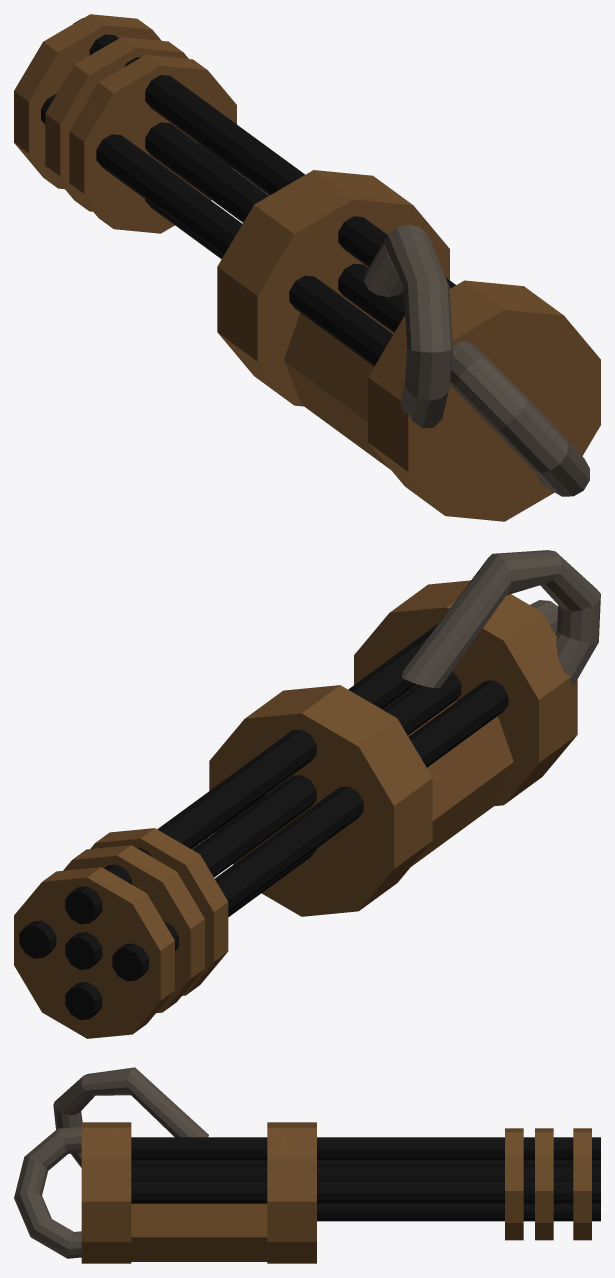
File: gun_turret.fbx
The picture shows the model from 3 angles, top to bottom: view 1: azimuth 30°, elevation 25°; view 2: azimuth 150°, elevation 25°; view 3: azimuth 270°, elevation 25°; orthographic projection. The views are drawn at different scales.
Parts seen in each view (by area): view 1: gun back, gun middle, gun ring 1, pipe.004, Torus.001, pipe, Torus, Cube, pipe.001, gun ring last 3e, gun ring 2e; view 2: gun middle, gun back, gun ring last 3e, Torus.001, pipe.004, pipe, pipe.001, Cube, gun ring 2e, gun ring 1, pipe.002, pipe.003; view 3: pipe.003, pipe, Cube, gun back, gun middle, pipe.001, Torus.001, Torus, pipe.002, pipe.004, gun ring 1, gun ring 2e (+1 smaller).
Part boxes in pixels (x1,y1,x2,y2): gun back: (368,280,600,521); gun middle: (217,170,449,406); gun ring 1: (69,55,236,233); pipe.004: (41,93,393,366); Torus.001: (363,224,452,428); pipe: (73,18,455,292); Torus: (450,341,589,496); Cube: (284,293,403,469); pipe.001: (145,122,405,332); gun ring last 3e: (14,14,161,189); gun ring 2e: (45,37,188,211); gun middle: (209,685,432,916); gun back: (354,580,577,805); gun ring last 3e: (14,867,174,1038); Torus.001: (401,550,600,688); pipe.004: (112,680,508,981); pipe: (65,624,437,924); pipe.001: (65,672,461,969); Cube: (384,690,513,866); gun ring 2e: (63,845,204,1013); gun ring 1: (90,828,228,995); pipe.002: (65,849,316,1019); pipe.003: (19,688,410,958); pipe.003: (131,1180,600,1203); pipe: (131,1137,600,1159); Cube: (131,1203,267,1261); gun back: (81,1122,131,1263); gun middle: (267,1122,316,1263); pipe.001: (131,1166,600,1180); Torus.001: (53,1067,208,1167); Torus: (14,1126,81,1258); pipe.002: (317,1203,600,1221); pipe.004: (131,1160,600,1166); gun ring 1: (505,1128,523,1240); gun ring 2e: (535,1128,553,1240).
Size of the model in its own units: 87.63 by 116 by 357.
